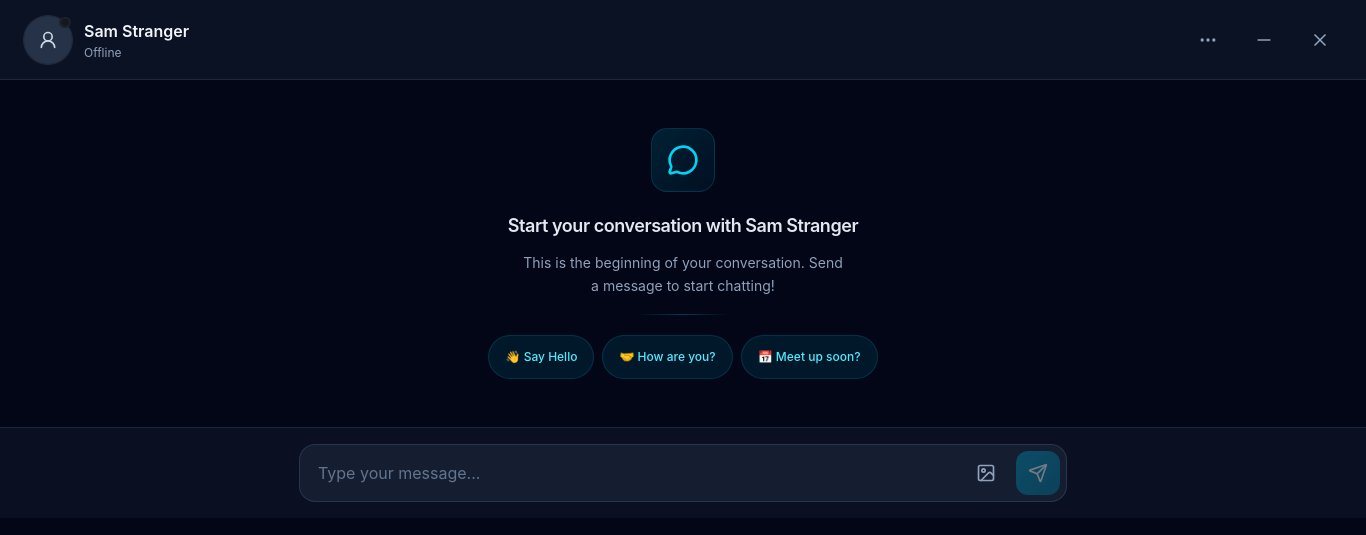
Conversation menu and blocked conversations › offers to add someone who is not a friend yet
The image size is (1366, 535).
Click the button named "More actions for Sam Stranger" at (1208, 40), box [1186,18,1230,62]
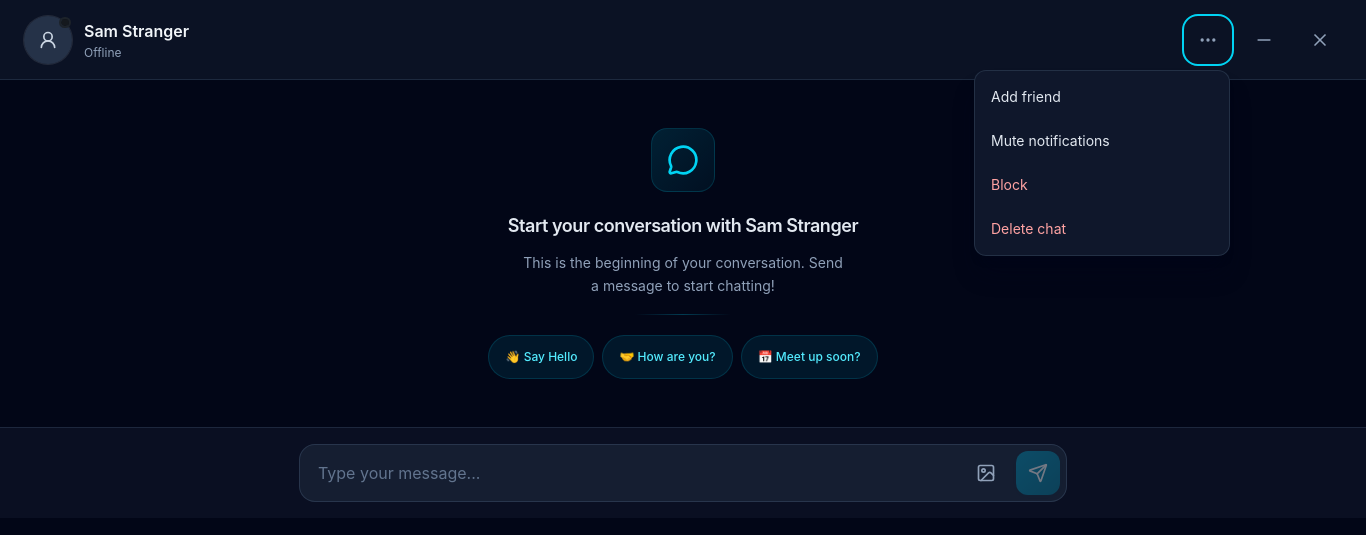
Click the button "Add friend" at (1102, 96), box [979,74,1225,118]
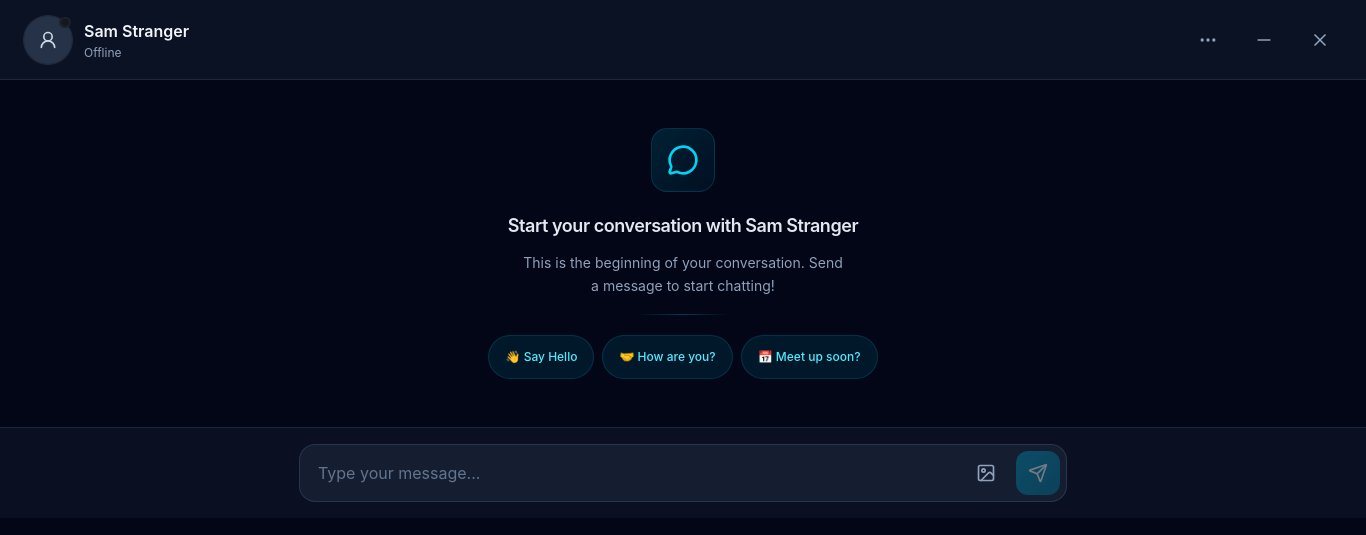
Click the button named "More actions for Sam Stranger" at (1208, 40), box [1186,18,1230,62]
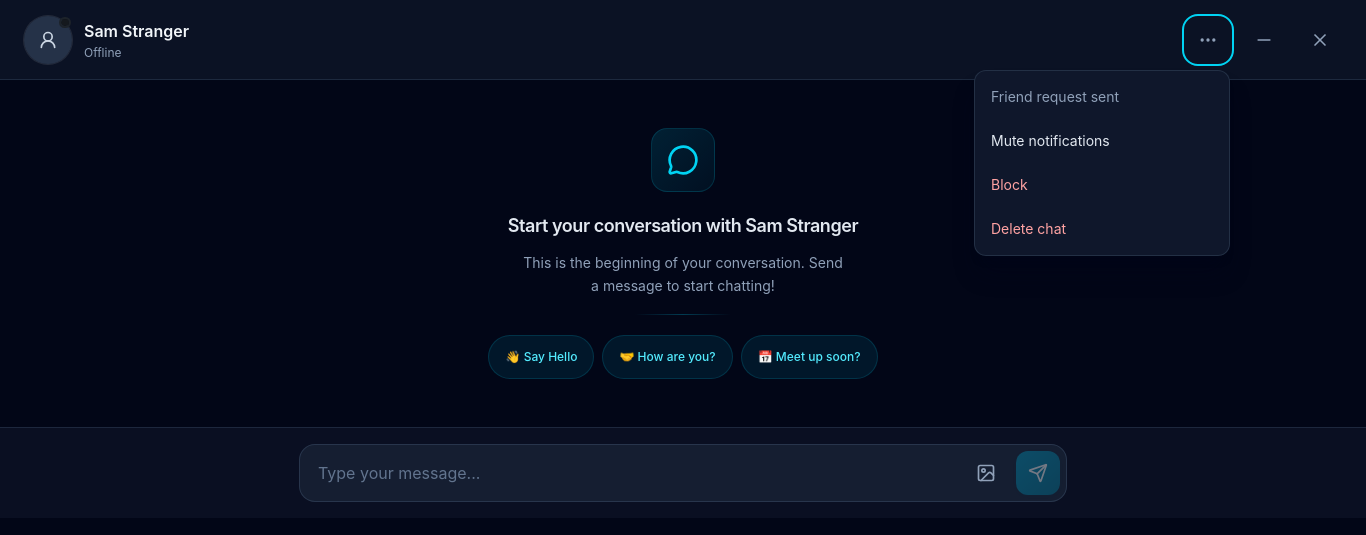
Expected: the text "Friend request sent" is shown, [991,88,1119,104]
